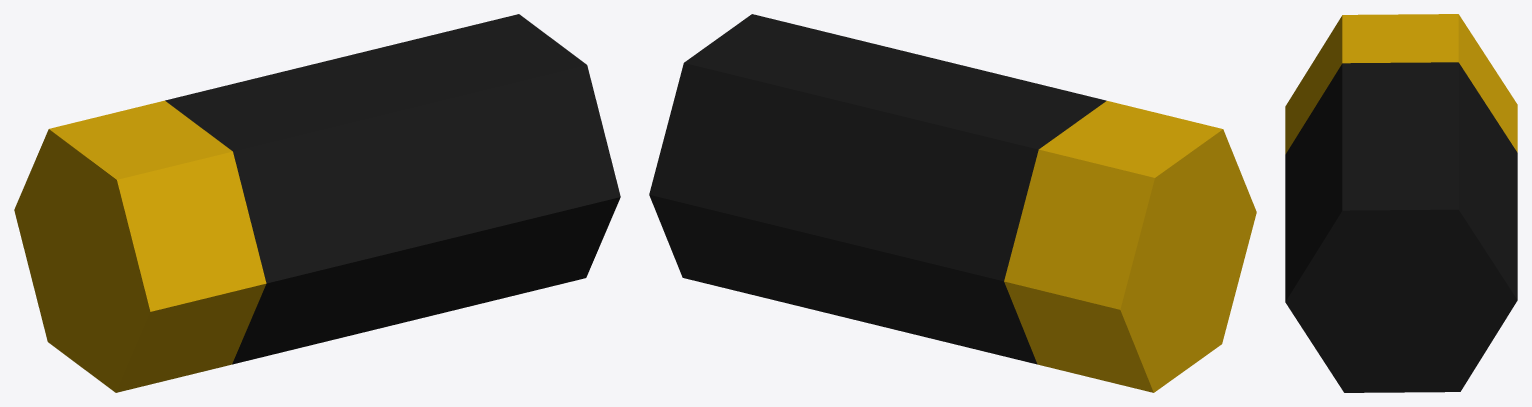
Rendered from RiotCasing.glb.
3 renders of one model, left to right at view 1: azimuth 30°, elevation 25°; view 2: azimuth 150°, elevation 25°; view 3: azimuth 270°, elevation 25°, orthographic. The views are drawn at different scales.
Parts seen in each view (by area): view 1: riotShell; view 2: riotShell; view 3: riotShell.
Part boxes in pixels (bbox=[...]): riotShell: bbox=[14, 14, 620, 392]; riotShell: bbox=[649, 14, 1256, 392]; riotShell: bbox=[1285, 14, 1517, 392].
Size of the model in its own units: 0.1144 by 0.05 by 0.0574.
1 material, 1 textured.
